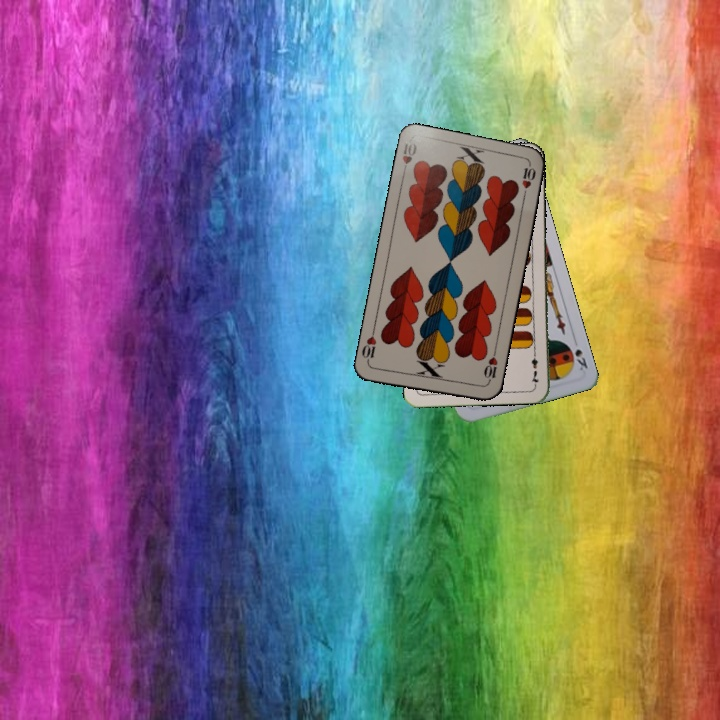E7: (527, 346, 541, 387)
H10: (398, 139, 419, 178), (480, 347, 500, 387)
SK: (564, 341, 590, 373)
